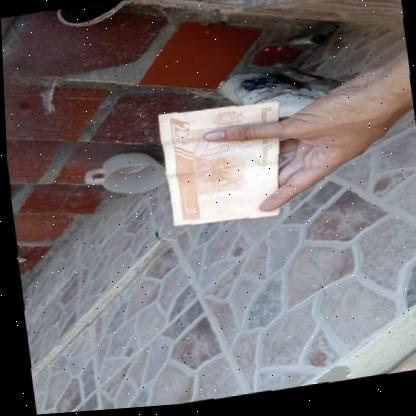twenty-back-vef: (155, 100, 292, 235)
